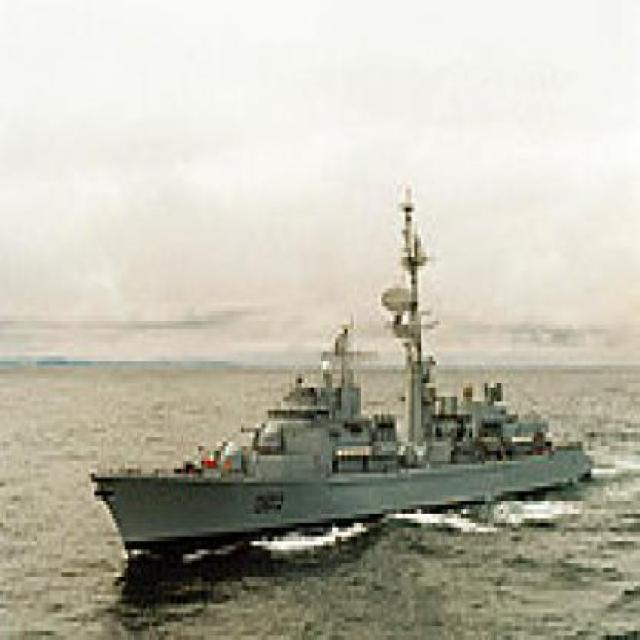warship2: (89, 163, 605, 574)
